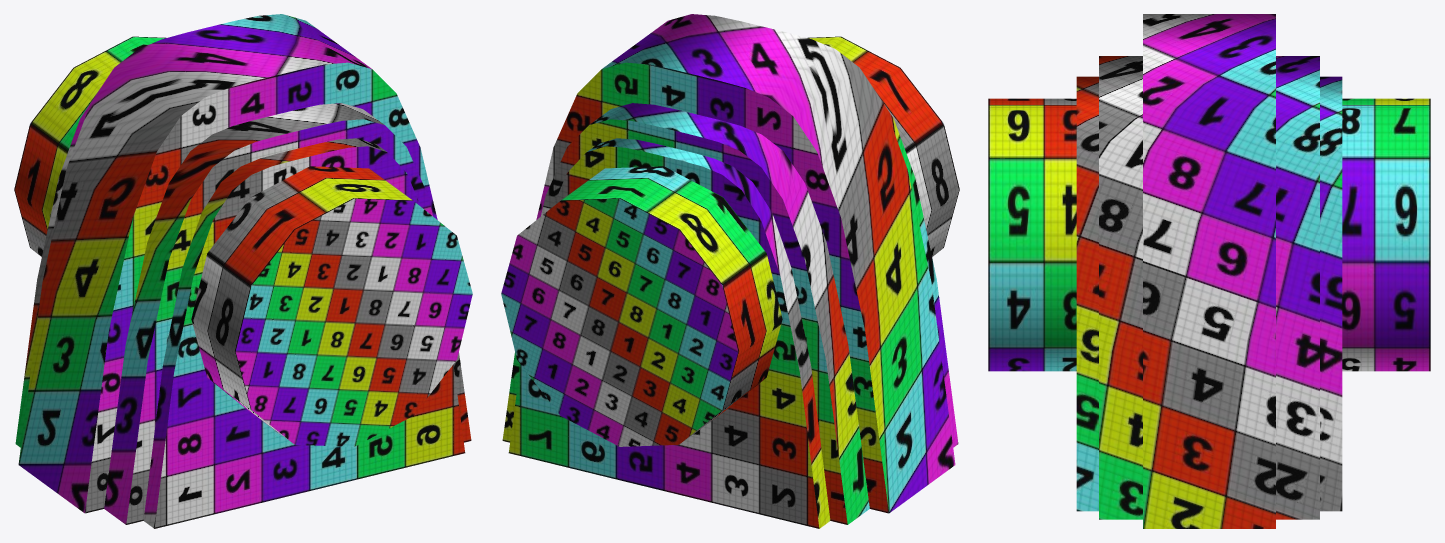
Rendered from pipe-pump.obj.
The picture shows the model from 3 angles, left to right: view 1: azimuth 30°, elevation 25°; view 2: azimuth 150°, elevation 25°; view 3: azimuth 270°, elevation 25°; orthographic projection.
Visible parts, largest first — view 1: pipe; view 2: pipe; view 3: pipe.
Part boxes in pixels (x1,y1,x2,y2): pipe: (14,14,472,528); pipe: (501,14,959,528); pipe: (988,14,1430,528).
Size of the model in its own units: 1 by 0.975 by 1.
Materials: 1 (1 with a texture image).
